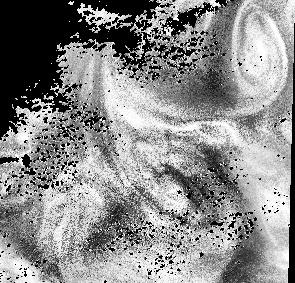CE: (228, 9, 288, 99)
